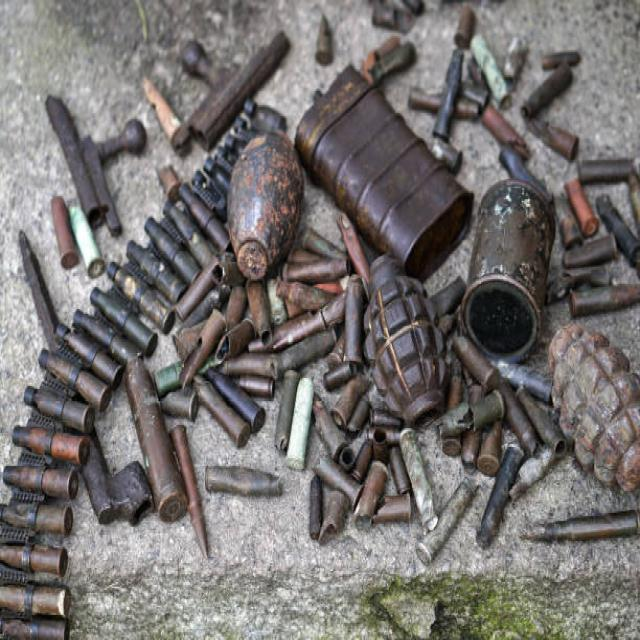grenade: (353, 249, 460, 432), (546, 314, 640, 492), (224, 125, 313, 281)
